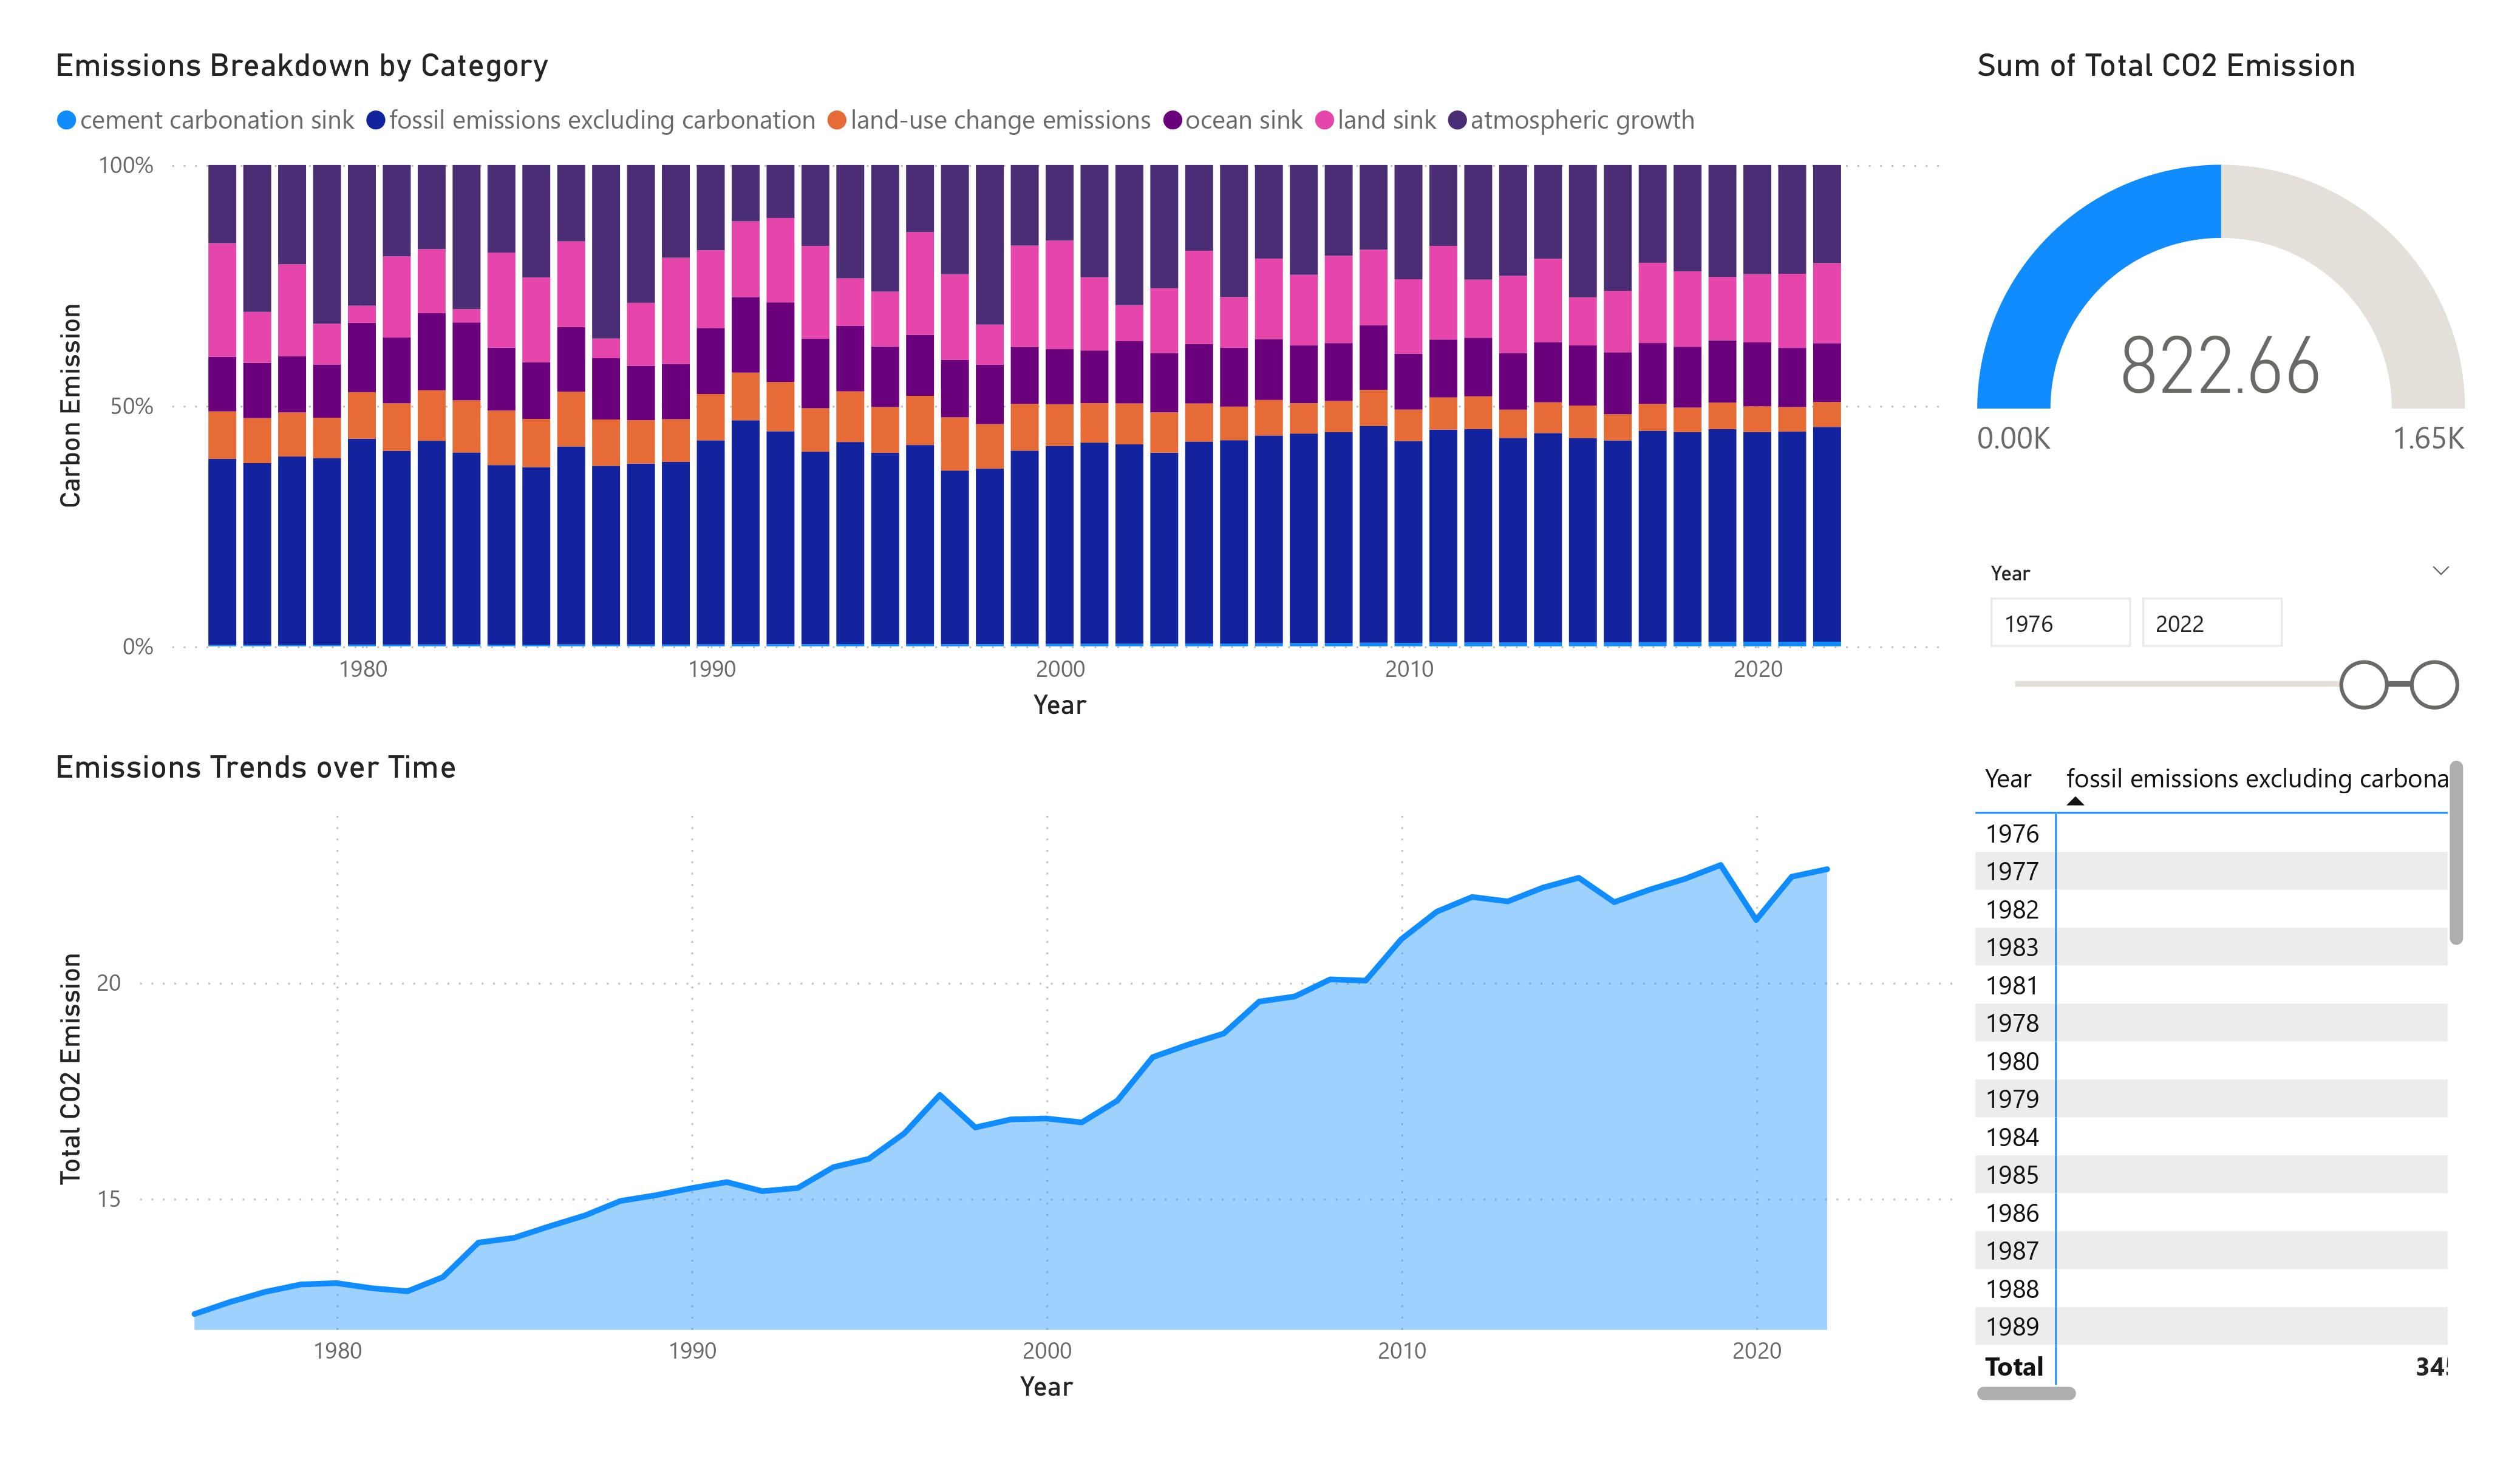

Layout of this report page (visuals, bound fields, positions):
{"tool":"powerbi","page":{"name":"Additional","canvas":[1280,720],"ordinal":5},"visuals":[{"type":"hundredPercentStackedColumnChart","title":"Emissions Breakdown by Category","fields":{"Y":["Sum(Historical Budget.cement carbonation sink)","Sum(Historical Budget.fossil emissions excluding carbonation)","Sum(Historical Budget.land-use change emissions)","Sum(Historical Budget.ocean sink)","Sum(Historical Budget.land sink)","Sum(Historical Budget.atmospheric growth)"],"Category":["Historical Budget.Year"]},"box":[0,0,1012.7,359.5],"z":0},{"type":"areaChart","title":"Emissions Trends over Time","fields":{"Category":["Historical Budget.Year"],"Y":["Sum(Historical Budget.Total CO2 Emission)"]},"box":[0,370.5,1012.7,349.9],"z":1000},{"type":"slicer","fields":{"Values":["Historical Budget.Year"]},"box":[1012.4,266.6,267.8,104.4],"z":2000},{"type":"pivotTable","fields":{"Rows":["Historical Budget.Year"],"Values":["Sum(Historical Budget.fossil emissions excluding carbonation)","Sum(Historical Budget.atmospheric growth)","Sum(Historical Budget.budget imbalance)","Sum(Historical Budget.cement carbonation sink)","Sum(Historical Budget.land sink)","Sum(Historical Budget.land-use change emissions)","Sum(Historical Budget.ocean sink)"]},"box":[1012.4,371.1,267.8,348.9],"z":3000},{"type":"gauge","fields":{"Y":["Sum(Historical Budget.Total CO2 Emission)"]},"box":[1013,0,267,267],"z":4000}]}

Visuals, with their boxes on the page's 1280x720 design canvas (x1, y1, x2, y2). These are canvas units, not pixel positions in the 2520x1457 screenshot, which may show the page scaled, cropped or inside an application window:
"Emissions Breakdown by Category" hundredPercentStackedColumnChart: [x1=0, y1=0, x2=1013, y2=360]
"Emissions Trends over Time" areaChart: [x1=0, y1=370, x2=1013, y2=720]
slicer - Historical Budget.Year: [x1=1012, y1=267, x2=1280, y2=371]
pivotTable - Historical Budget.Year x Sum(Historical Budget.fossil emissions excluding carbonation): [x1=1012, y1=371, x2=1280, y2=720]
gauge - Sum(Historical Budget.Total CO2 Emission): [x1=1013, y1=0, x2=1280, y2=267]
